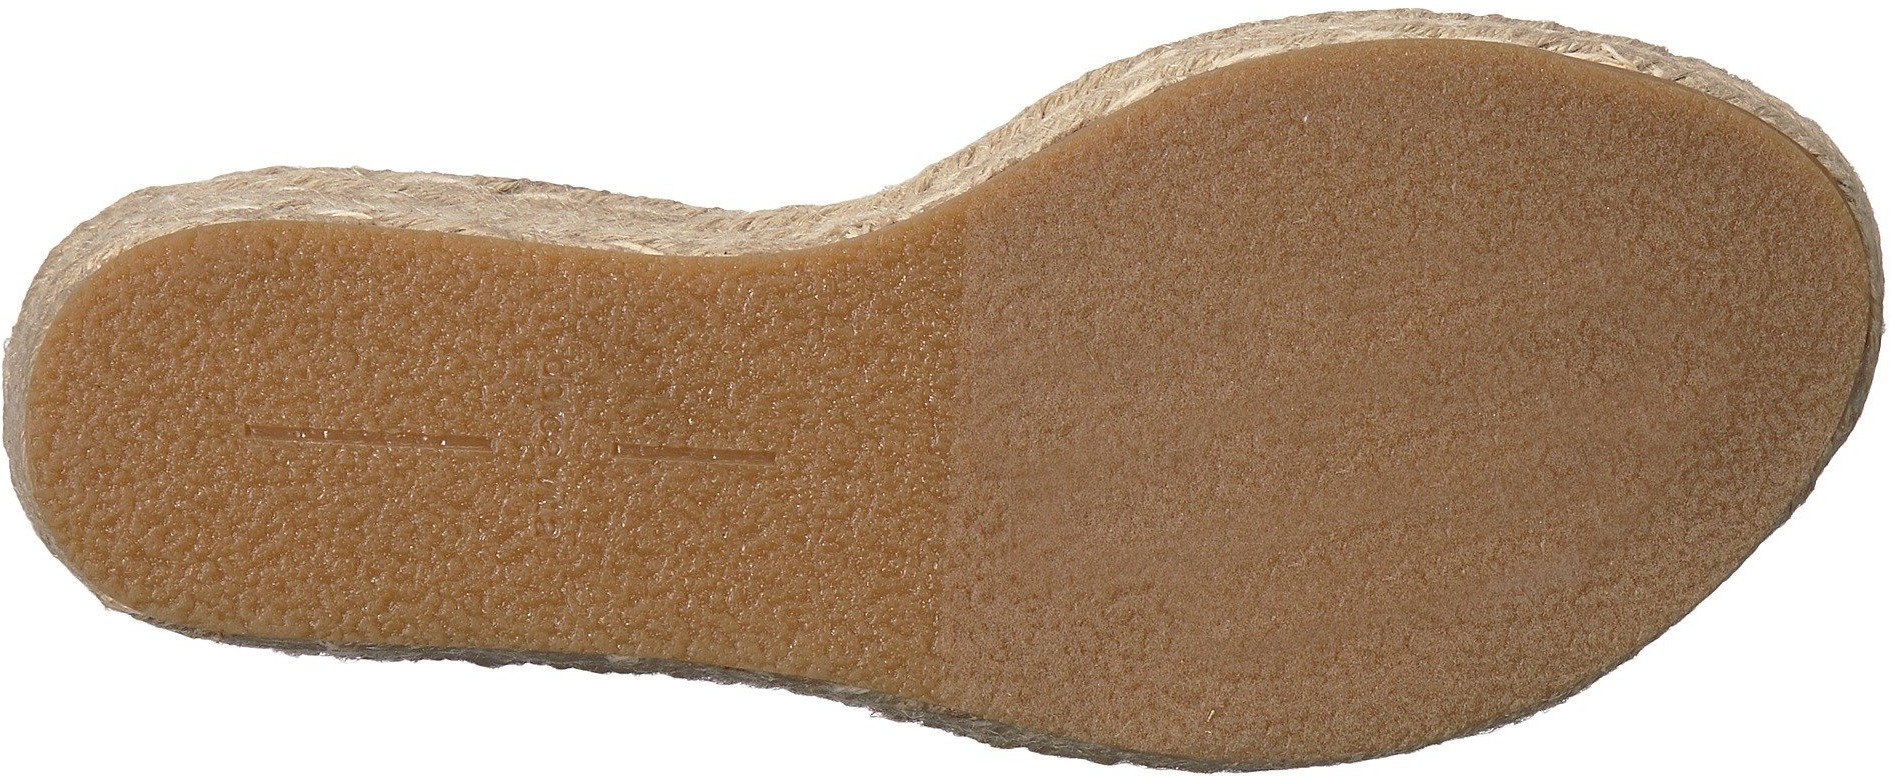other: (747, 268, 1110, 613), (1427, 168, 1764, 460), (431, 285, 725, 578), (112, 285, 410, 566), (1135, 144, 1413, 438), (1135, 465, 1425, 738)
